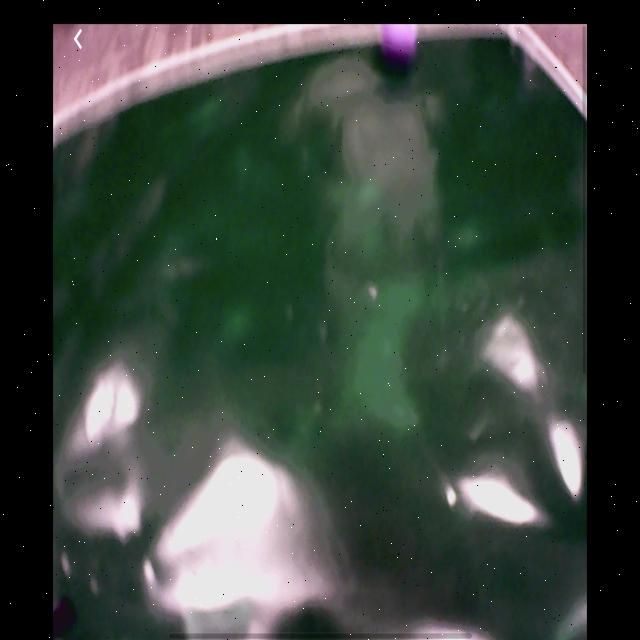ball: (380, 23, 421, 67)
